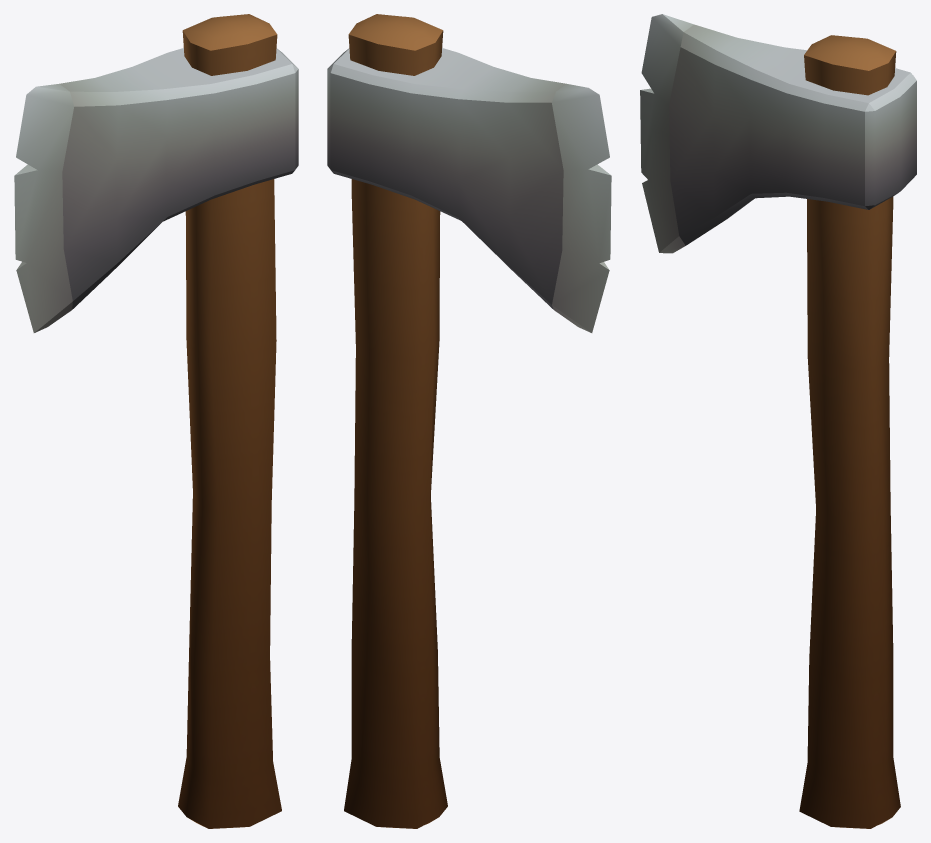
Rendered from Axe_02.obj.
3 renders of one model, left to right at view 1: azimuth 30°, elevation 25°; view 2: azimuth 150°, elevation 25°; view 3: azimuth 330°, elevation 25°, orthographic. The views are drawn at different scales.
Parts seen in each view (by area): view 1: Axe_02; view 2: Axe_02; view 3: Axe_02.
Part boxes in pixels (x1,y1,x2,y2): Axe_02: (14,14,298,828); Axe_02: (327,14,611,828); Axe_02: (640,14,916,828).
Size of the model in its own units: 0.3624 by 1.03 by 0.1256.
